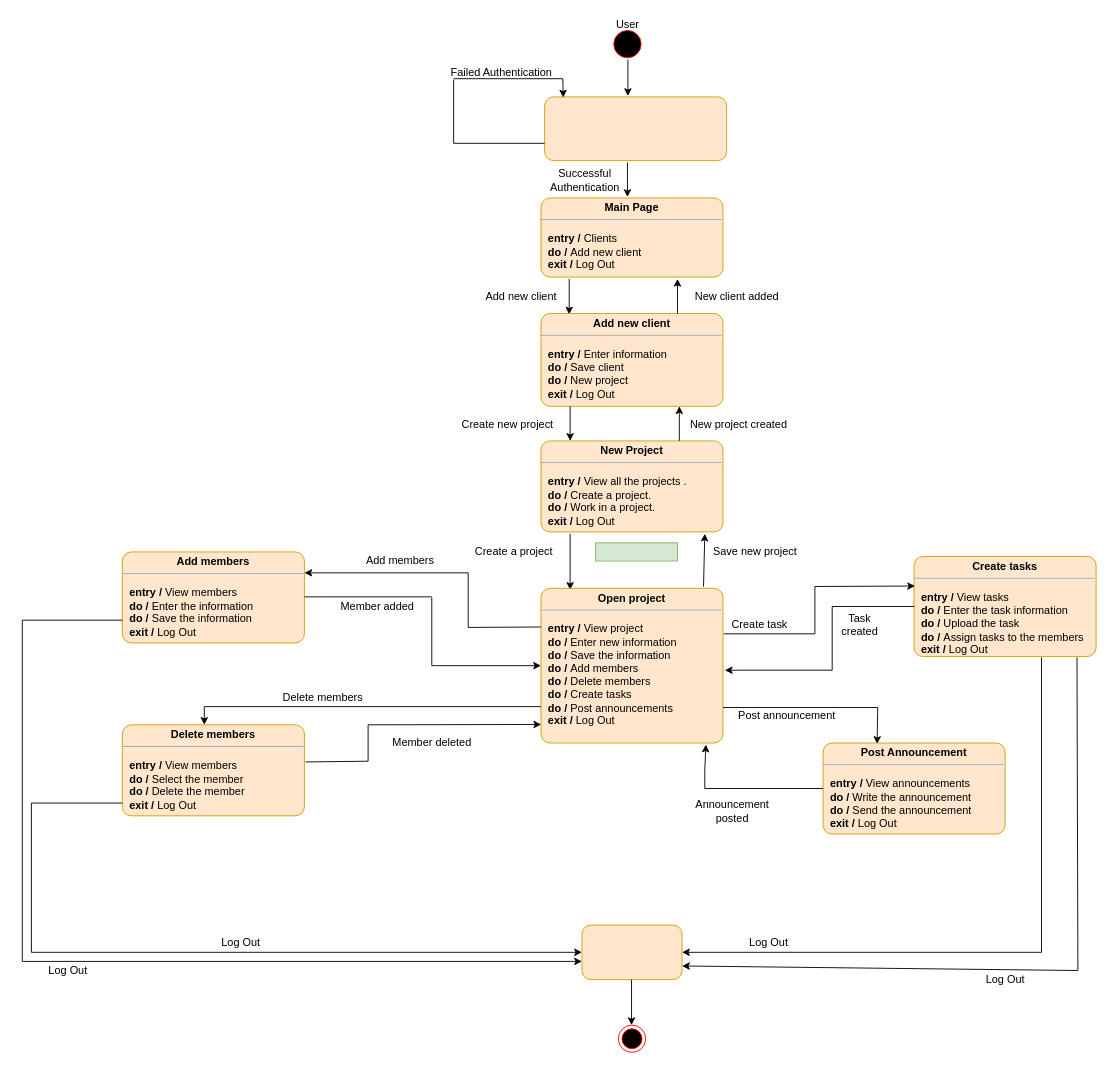
The diagram is 1112 pixels wide and 1068 high, and some of its shapes have lost their labels. Each missing label, with the centre of its shape:
"Log In entry / Enter Credentials exit / Authentication Successful" belongs at (x=635, y=128).
"Log Out exit / Logged Out" belongs at (x=631, y=952).
"Team Leader" belongs at (x=636, y=551).
